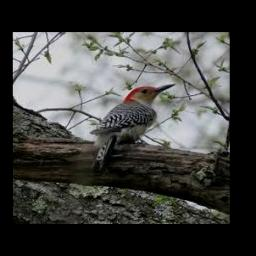Woodpecker: (91, 83, 176, 171)
